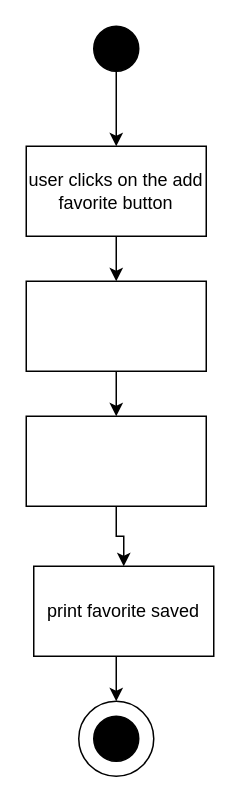
This 240x803 diagram has some shape labels left out. The shapes that lost their labels are listed below. From the top down, each one's centre as x and y in pixels, then its label:
the point at 115,325: the items array is called
the point at 115,460: items array is stored in the local storage
